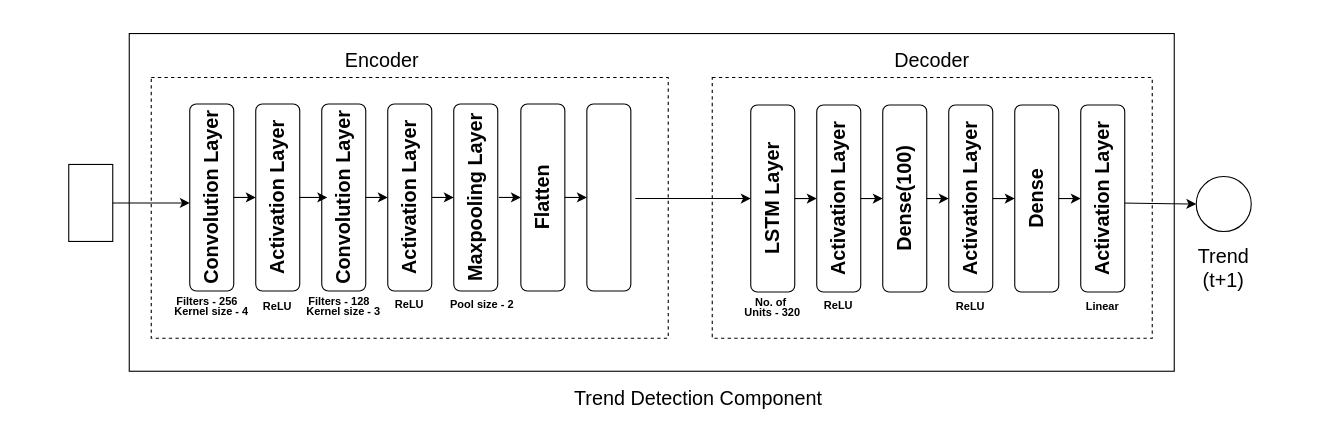
This 1337x435 diagram has some shape labels left out. The box of each missing label's shape, as (x1, y1, x2, y2) in pixels:
Input: (68, 163, 113, 241)
RepeatVector: (586, 103, 631, 291)
